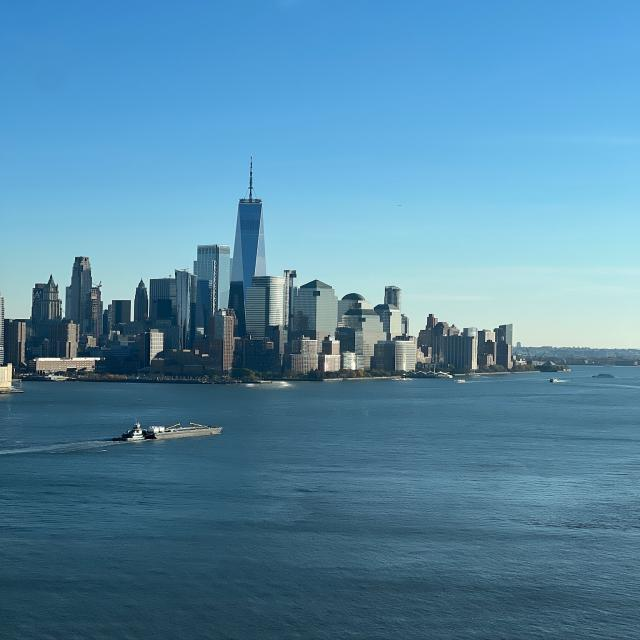WTC: (232, 154, 266, 295)
